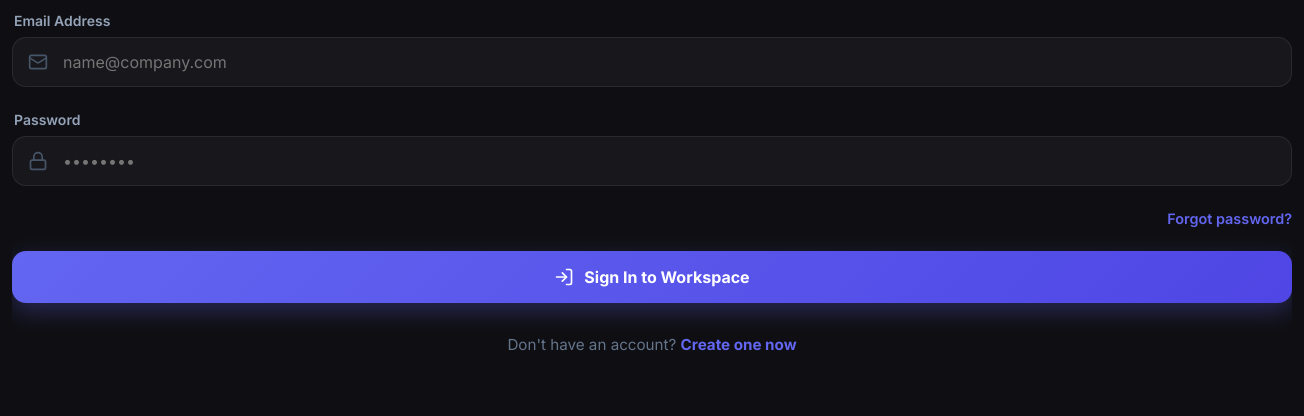
Test: LoginPage › clears email error when user starts typing again
Note: trigger error
Click the button "Sign In to Workspace": (652, 277) [12, 251, 1292, 303]
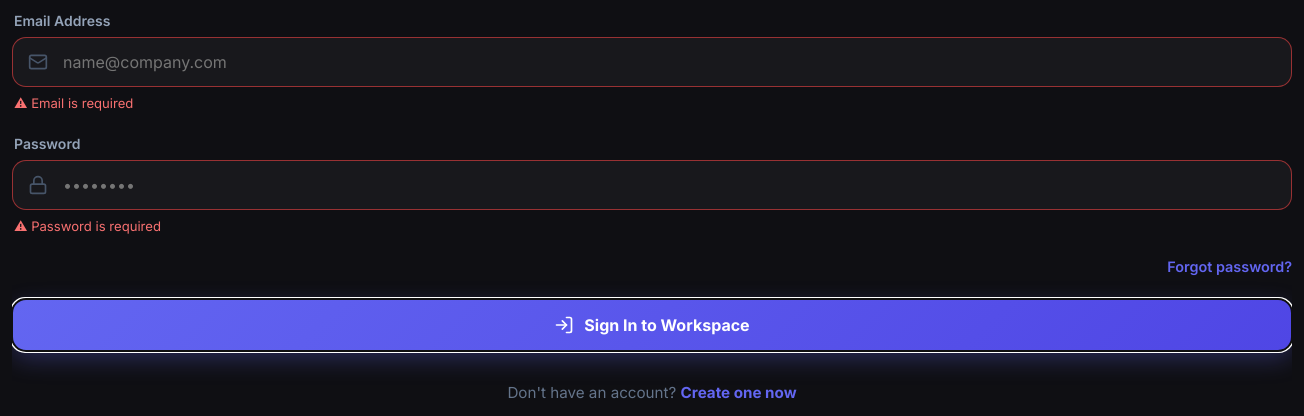
Now the text "⚠ Email is required" is shown, box [14, 95, 133, 111]
Note: start typing
In the field with placeholder "name@company.com": (652, 62) [12, 37, 1292, 87], type "a"
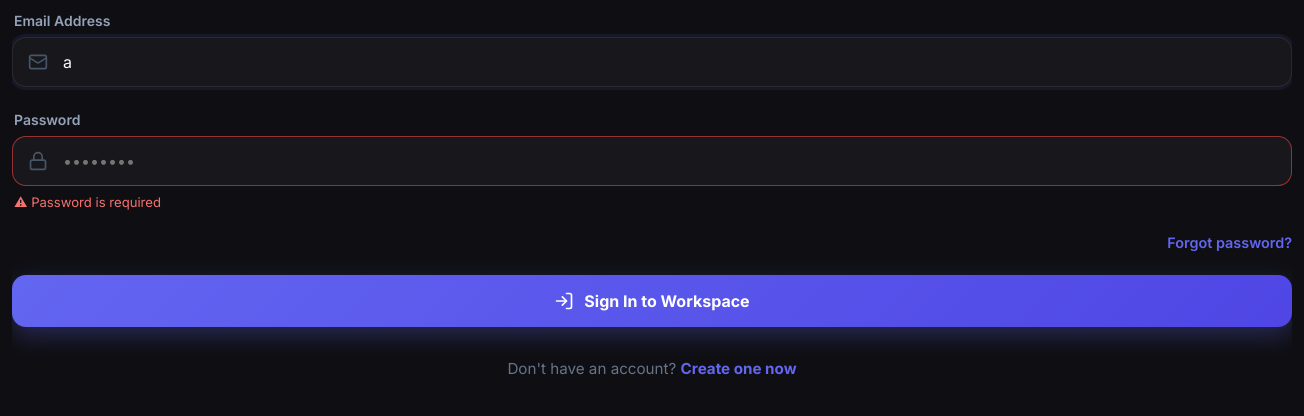
Now the text "Email is required" is gone
